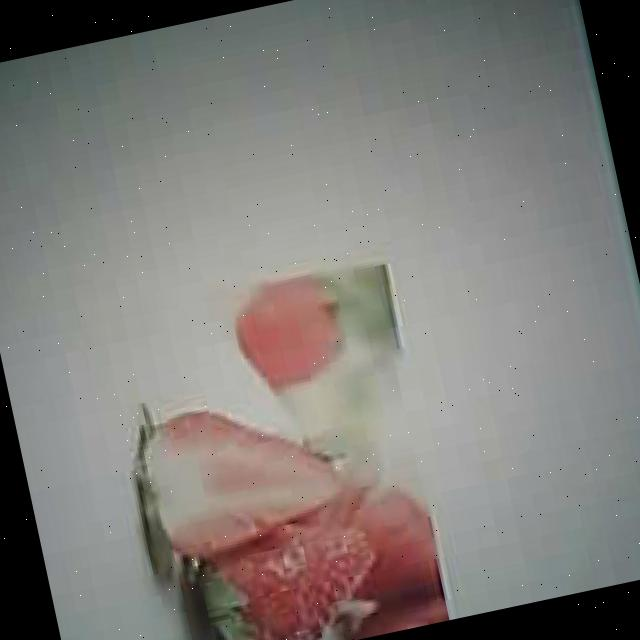strawberry: (201, 508, 393, 640)
